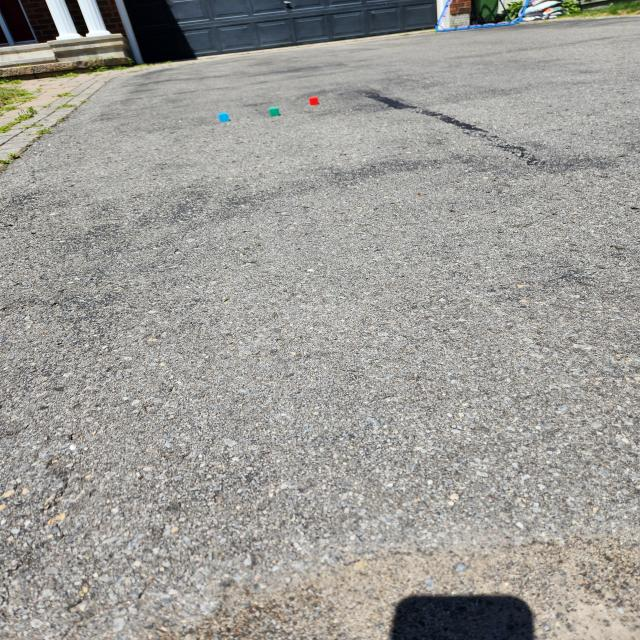bluecube: (218, 114, 229, 122)
green cube: (268, 107, 280, 116)
red cube: (309, 97, 319, 105)
